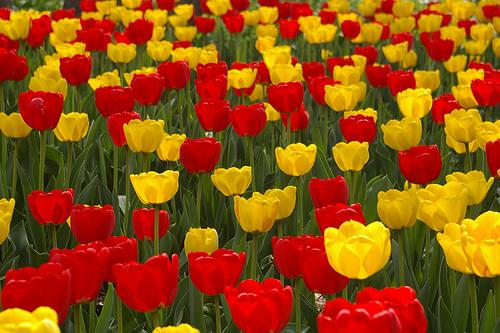tulip: (108, 253, 185, 310), (325, 219, 392, 280), (2, 263, 69, 324), (224, 277, 294, 333), (52, 242, 107, 308), (186, 245, 247, 296), (301, 236, 349, 297), (462, 213, 500, 277), (420, 183, 466, 229), (19, 89, 66, 134), (312, 197, 362, 239), (398, 144, 445, 186), (68, 203, 118, 242), (233, 193, 278, 236), (26, 187, 75, 226), (378, 185, 419, 230), (446, 169, 494, 207), (129, 169, 181, 204), (271, 233, 306, 281), (178, 138, 223, 174), (182, 221, 221, 260), (446, 107, 483, 146), (381, 117, 423, 151), (275, 142, 318, 175), (125, 117, 164, 152), (130, 205, 170, 239), (210, 163, 252, 195), (195, 96, 230, 134), (268, 78, 304, 114), (231, 100, 266, 137), (57, 53, 96, 86), (310, 175, 352, 205), (96, 84, 135, 116), (105, 111, 139, 146), (340, 112, 378, 143), (52, 111, 90, 141), (333, 140, 368, 172), (399, 87, 432, 120), (133, 72, 165, 106), (157, 59, 190, 90), (324, 83, 360, 109), (472, 76, 500, 106), (196, 74, 230, 98), (158, 133, 187, 159), (426, 35, 454, 61), (362, 62, 390, 87), (388, 70, 415, 94), (223, 11, 247, 34), (280, 17, 300, 39)
